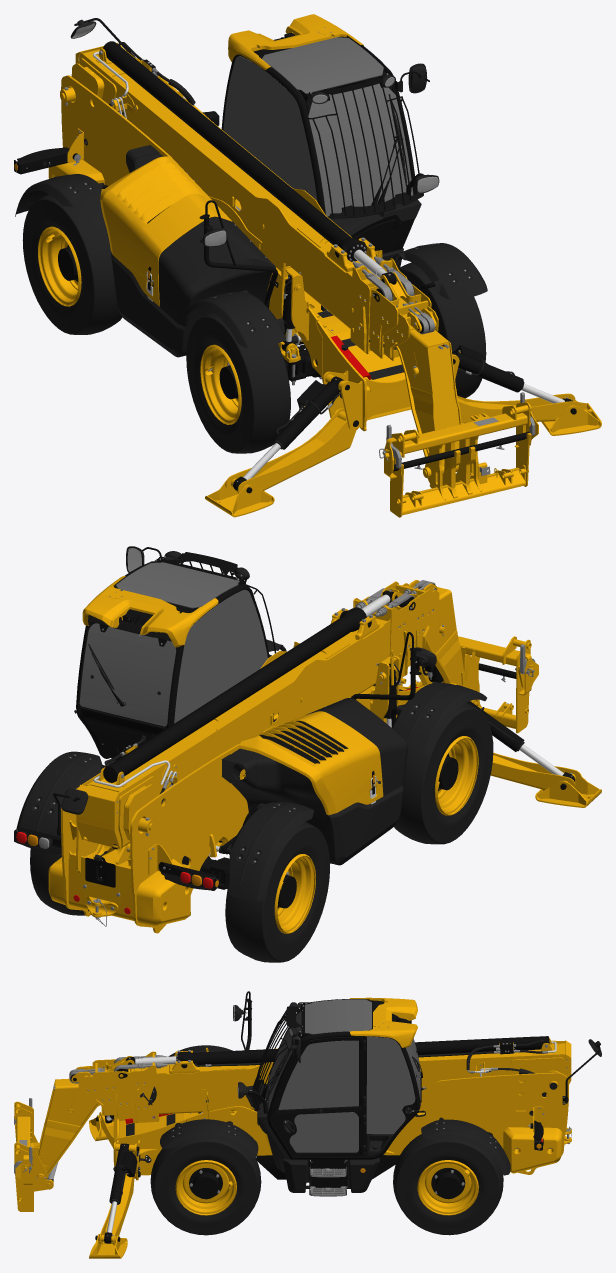
3 views of the same model, one above another, from view 1: azimuth 30°, elevation 25°; view 2: azimuth 150°, elevation 25°; view 3: azimuth 270°, elevation 25° (orthographic). The views are drawn at different scales.
Parts seen in each view (by area): view 1: P417-540-180_1-Boom, P417-540-180_2-Cab, P417-540-180_3-Chassis, P417-540-180_6-Bonnet, P417-540-180_11_Specification, P417-540-180_8-HydraulicSystem, P417-540-180_12-WheelsFR, P417-540-180_12-WheelsRR, P417-540-180_9-Lights, P417-540-180_12-WheelsFL, P417-540-180_10-PowerTrain; view 2: P417-540-180_2-Cab, P417-540-180_1-Boom, P417-540-180_3-Chassis, P417-540-180_11_Specification, P417-540-180_6-Bonnet, P417-540-180_12-WheelsFR, P417-540-180_8-HydraulicSystem, P417-540-180_12-WheelsRR, P417-540-180_9-Lights, P417-540-180_10-PowerTrain, P417-540-180_12-WheelsRL; view 3: P417-540-180_2-Cab, P417-540-180_1-Boom, P417-540-180_3-Chassis, P417-540-180_12-WheelsRL, P417-540-180_12-WheelsFL, P417-540-180_11_Specification, P417-540-180_8-HydraulicSystem, P417-540-180_7-FuelSystem, P417-540-180_10-PowerTrain, P417-540-180_9-Lights.
Part boxes in pixels (<box>): P417-540-180_1-Boom: <box>60,42,538,517</box>; P417-540-180_2-Cab: <box>221,14,429,253</box>; P417-540-180_3-Chassis: <box>48,58,601,517</box>; P417-540-180_6-Bonnet: <box>100,156,275,326</box>; P417-540-180_11_Specification: <box>15,18,487,357</box>; P417-540-180_8-HydraulicSystem: <box>93,41,576,493</box>; P417-540-180_12-WheelsFR: <box>186,312,290,453</box>; P417-540-180_12-WheelsRR: <box>22,194,122,334</box>; P417-540-180_9-Lights: <box>14,73,439,308</box>; P417-540-180_12-WheelsFL: <box>399,262,486,398</box>; P417-540-180_10-PowerTrain: <box>58,244,322,400</box>; P417-540-180_2-Cab: <box>74,546,276,761</box>; P417-540-180_1-Boom: <box>76,580,538,848</box>; P417-540-180_3-Chassis: <box>48,641,601,933</box>; P417-540-180_11_Specification: <box>15,639,486,901</box>; P417-540-180_6-Bonnet: <box>239,698,407,815</box>; P417-540-180_12-WheelsFR: <box>394,702,493,844</box>; P417-540-180_8-HydraulicSystem: <box>93,590,574,849</box>; P417-540-180_12-WheelsRR: <box>225,821,329,962</box>; P417-540-180_9-Lights: <box>14,551,436,890</box>; P417-540-180_10-PowerTrain: <box>182,753,458,908</box>; P417-540-180_12-WheelsRL: <box>30,816,91,915</box>; P417-540-180_2-Cab: <box>245,997,426,1159</box>; P417-540-180_1-Boom: <box>14,1037,571,1211</box>; P417-540-180_3-Chassis: <box>89,1047,571,1258</box>; P417-540-180_12-WheelsRL: <box>393,1134,503,1235</box>; P417-540-180_12-WheelsFL: <box>150,1139,261,1235</box>; P417-540-180_11_Specification: <box>160,1039,601,1196</box>; P417-540-180_8-HydraulicSystem: <box>47,1036,556,1243</box>; P417-540-180_7-FuelSystem: <box>267,1135,379,1192</box>; P417-540-180_10-PowerTrain: <box>189,1168,465,1199</box>; P417-540-180_9-Lights: <box>233,991,543,1150</box>.
Size of the model in its own units: 3.76 by 2.63 by 6.68.
